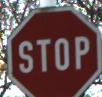Stop sign: (0, 0, 101, 96)
